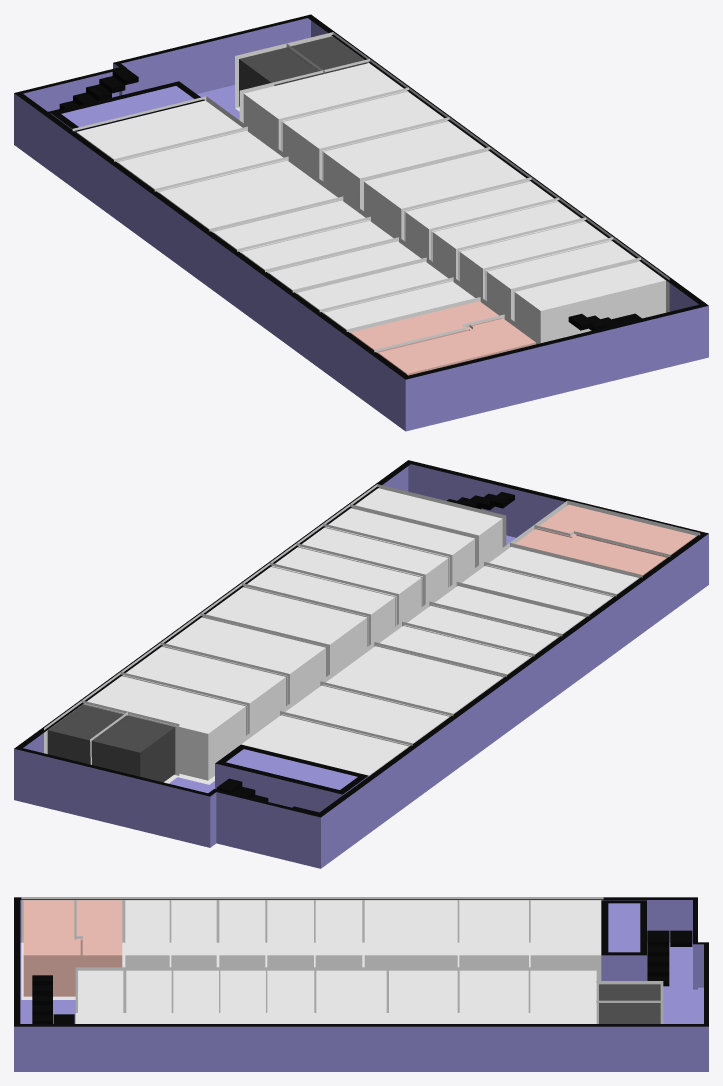
3 views of the same model, one above another, from view 1: azimuth 30°, elevation 25°; view 2: azimuth 150°, elevation 25°; view 3: azimuth 270°, elevation 25° (orthographic). The views are drawn at different scales.
Parts seen in each view (by area): view 1: object, room_3_3_10, room_3_3_3, room_3_3_9, room_3_3_7, room_3_3_8, room_3_3_6, room_3_3_5, room_3_3_4, トイレ_3_3_1, room_3_3_14, room_3_3_16 (+22 smaller); view 2: object, room_3_3_6, エレベーター_3_3_1, room_3_3_3, room_3_3_9, room_3_3_7, room_3_3_8, room_3_3_5, room_3_3_4, room_3_3_14, room_3_3_16, room_3_3_17 (+23 smaller); view 3: object, room_3_3_3, room_3_3_5, トイレ_3_3_1, room_3_3_4, room_3_3_9, room_3_3_7, room_3_3_8, room_3_3_6, room_3_3_2, room_3_3_1, room_3_3_13 (+30 smaller).
Part boxes in pixels (box(x1,y1,x2,y2)): object: box(14, 14, 708, 431); room_3_3_10: box(514, 261, 665, 343); room_3_3_3: box(158, 160, 340, 232); room_3_3_9: box(364, 151, 529, 241); room_3_3_7: box(282, 91, 447, 181); room_3_3_8: box(323, 121, 487, 210); room_3_3_6: box(243, 63, 406, 151); room_3_3_5: box(76, 100, 245, 162); room_3_3_4: box(118, 131, 286, 192); トイレ_3_3_1: box(378, 318, 535, 375); room_3_3_14: box(405, 181, 557, 261); room_3_3_16: box(460, 221, 611, 301); object: box(14, 460, 708, 868); room_3_3_6: box(84, 676, 245, 780); エレベーター_3_3_1: box(47, 704, 175, 782); room_3_3_3: box(322, 646, 502, 717); room_3_3_9: box(203, 587, 367, 676); room_3_3_7: box(122, 647, 285, 735); room_3_3_8: box(163, 617, 325, 706); room_3_3_5: box(241, 715, 408, 776); room_3_3_4: box(282, 685, 449, 746); room_3_3_14: box(244, 567, 394, 646); room_3_3_16: box(298, 528, 448, 606); room_3_3_17: box(325, 508, 474, 587); object: box(14, 897, 708, 1071); room_3_3_3: box(364, 900, 457, 967); room_3_3_5: box(530, 900, 601, 980); トイレ_3_3_1: box(23, 900, 80, 996); room_3_3_4: box(459, 900, 528, 967); room_3_3_9: box(316, 970, 386, 1023); room_3_3_7: box(459, 970, 528, 1023); room_3_3_8: box(389, 970, 457, 1023); room_3_3_6: box(530, 970, 596, 1023); room_3_3_2: box(315, 900, 362, 967); room_3_3_1: box(267, 900, 313, 967); room_3_3_13: box(219, 900, 265, 967).
Bounding box in the file's own units: 1.1 × 0.1889 × 2.5.
